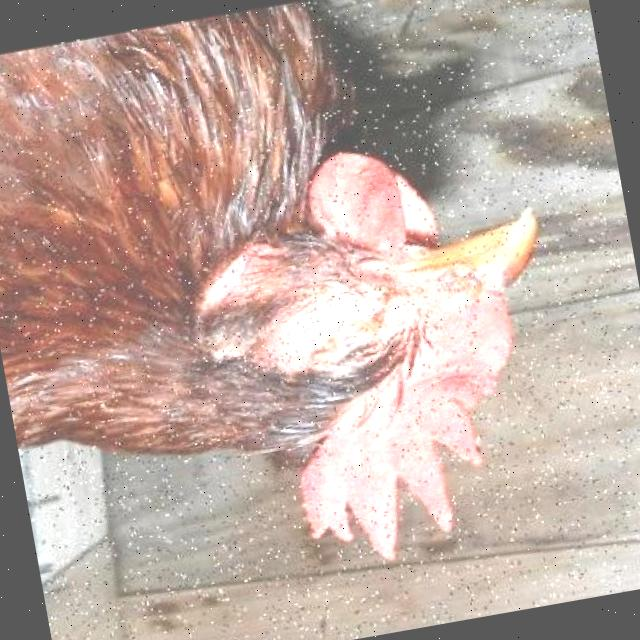Coryza: (260, 263, 431, 409)
